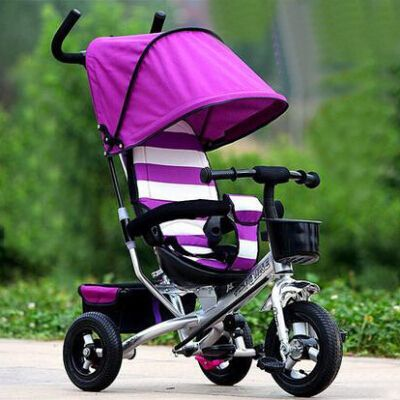empty: (32, 5, 368, 398)
